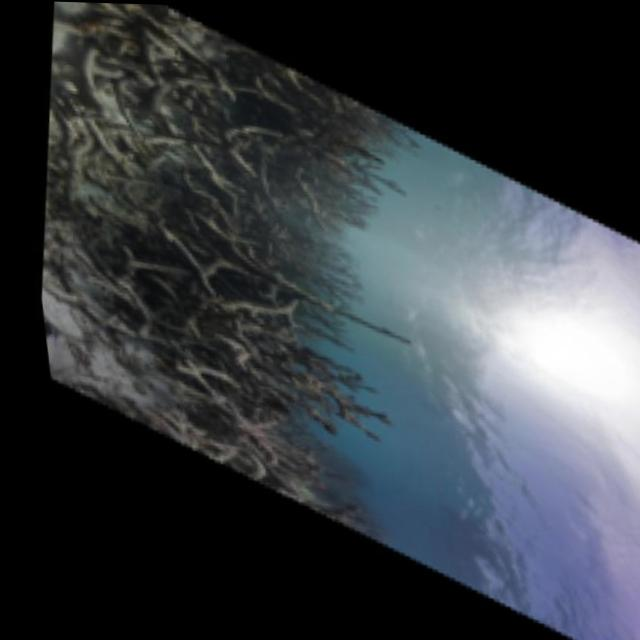Dead Coral: (41, 186, 382, 489), (111, 28, 432, 271)
